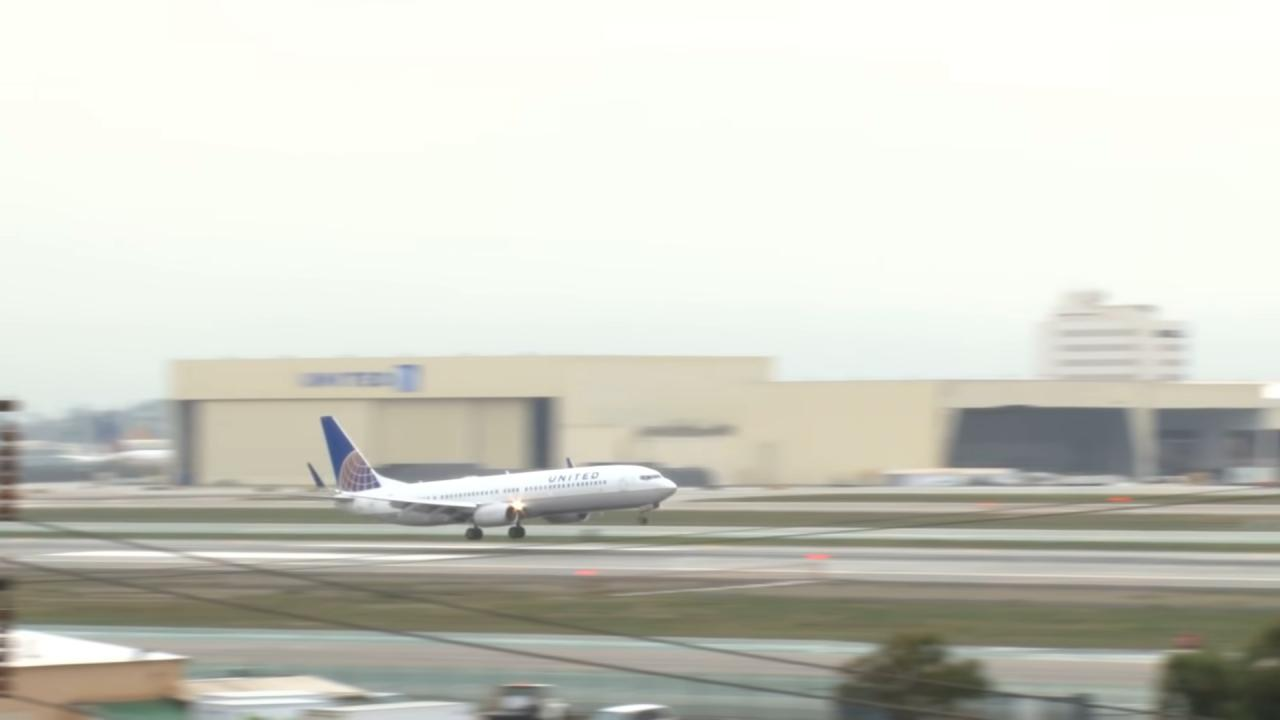Airplane: (284, 402, 690, 554)
